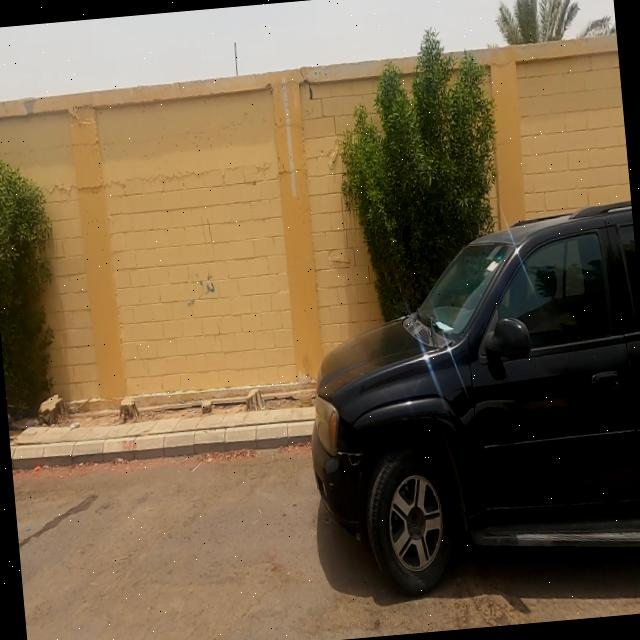Graffiti: (185, 274, 220, 309)
